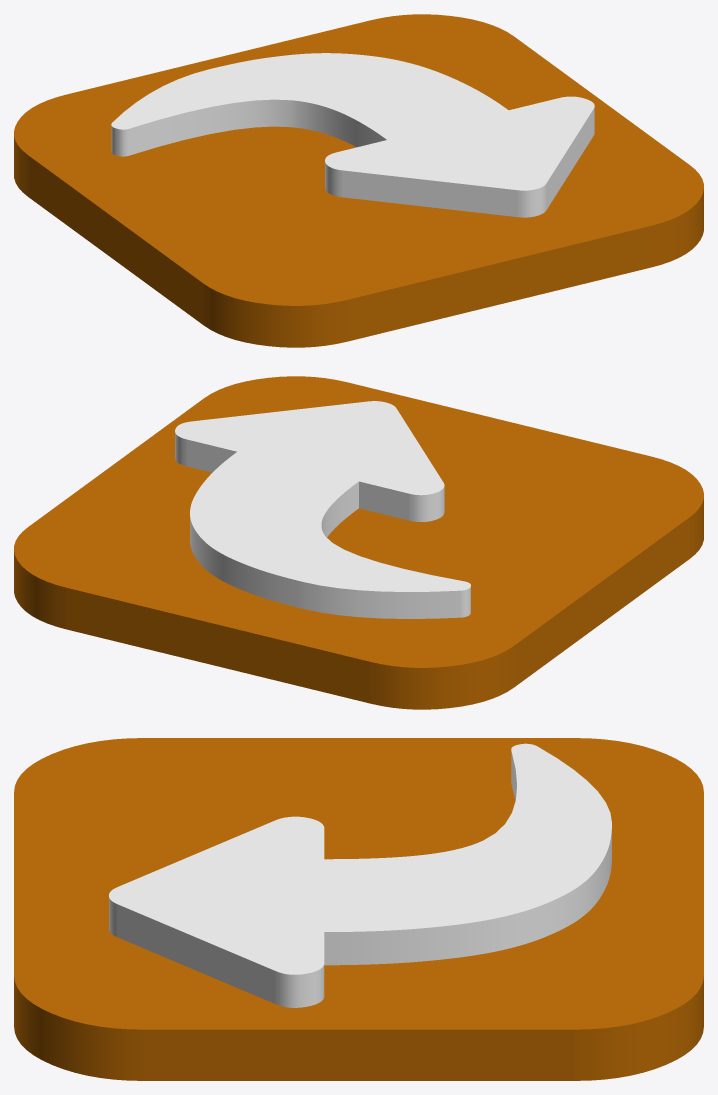
Rendered from right.FBX.
The picture shows the model from 3 angles, top to bottom: view 1: azimuth 30°, elevation 25°; view 2: azimuth 150°, elevation 25°; view 3: azimuth 270°, elevation 25°; orthographic projection. The views are drawn at different scales.
Parts seen in each view (by area): view 1: Shape009, Shape008; view 2: Shape009, Shape008; view 3: Shape009, Shape008.
Part boxes in pixels (left/top/right/bottom): Shape009: left=14, top=14, right=703, bottom=347; Shape008: left=111, top=53, right=594, bottom=217; Shape009: left=14, top=376, right=703, bottom=709; Shape008: left=175, top=401, right=470, bottom=618; Shape009: left=14, top=738, right=703, bottom=1080; Shape008: left=109, top=743, right=611, bottom=1007.
Size of the model in its own units: 36.62 by 4.95 by 36.62.
